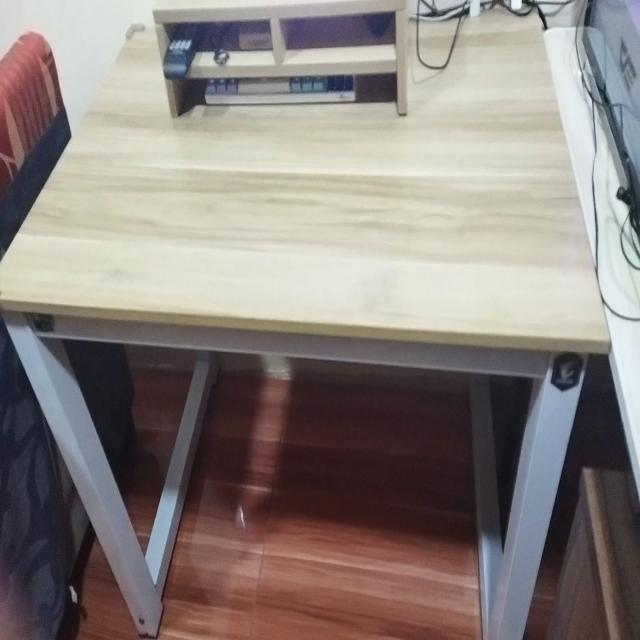table: (0, 0, 602, 640)
